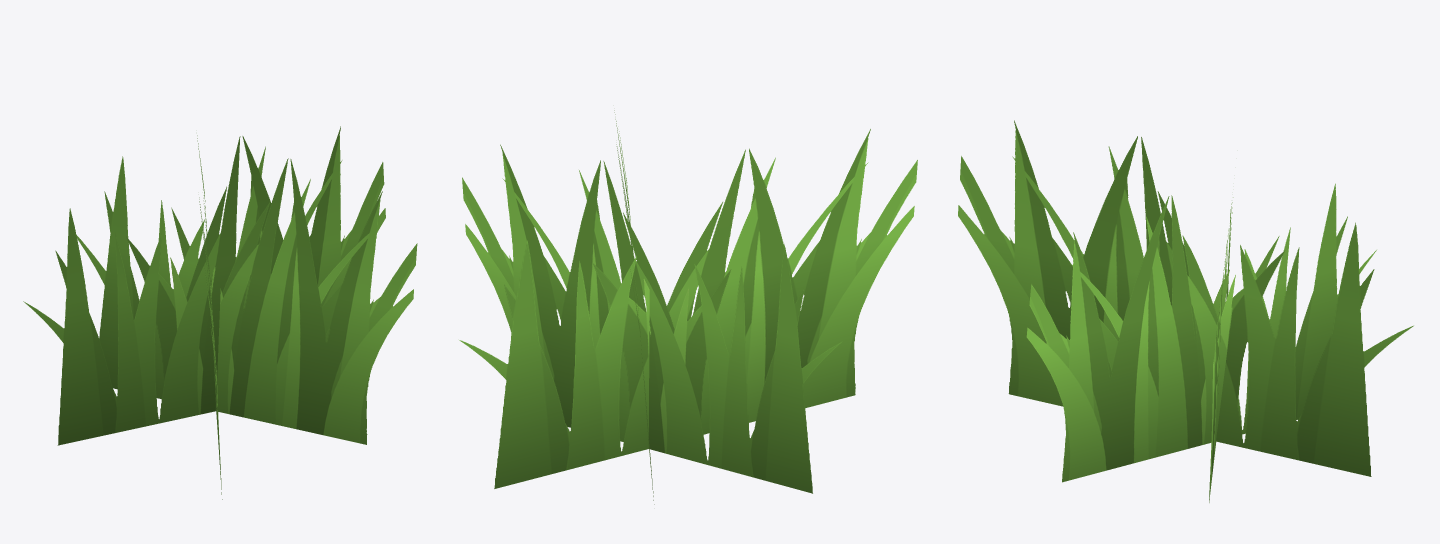
File: grass_1_mid.glb
3 renders of one model, left to right at view 1: azimuth 30°, elevation 25°; view 2: azimuth 150°, elevation 25°; view 3: azimuth 270°, elevation 25°, orthographic. The views are drawn at different scales.
Parts seen in each view (by area): view 1: grass_1_mid; view 2: grass_1_mid; view 3: grass_1_mid.
Boxes of the visible parts, bbox=[...] form: grass_1_mid: bbox=[23, 126, 417, 499]; grass_1_mid: bbox=[459, 110, 917, 504]; grass_1_mid: bbox=[958, 120, 1413, 502].
Bounding box in the file's own units: 0.5259 × 0.4413 × 0.5679.
Materials: 1 (1 with a texture image).
